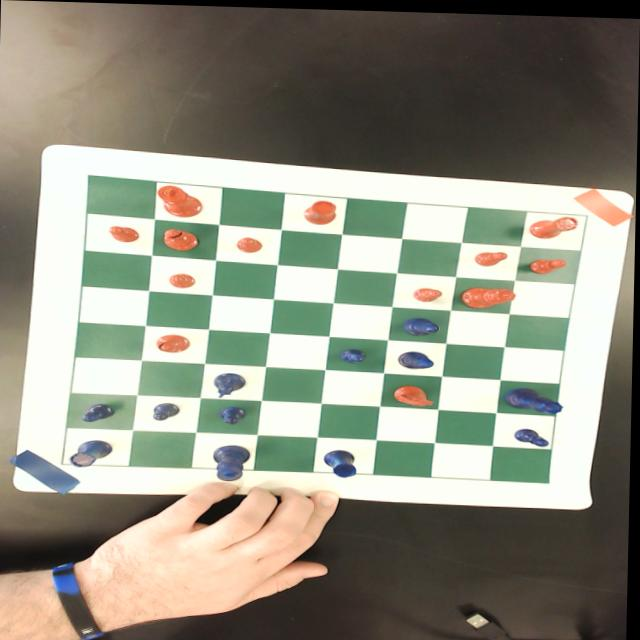B: (401, 314, 442, 333), (398, 348, 436, 367)
K: (213, 444, 252, 481)
N: (209, 370, 249, 398)
P: (515, 425, 552, 445), (83, 402, 115, 423), (153, 401, 183, 422), (219, 405, 248, 424), (340, 347, 368, 361)
Q: (505, 384, 566, 411)
R: (70, 439, 115, 468), (324, 447, 360, 476)
b: (163, 228, 200, 251), (157, 333, 191, 353)
cb: (63, 175, 588, 480)
k: (157, 184, 203, 216)
n: (393, 382, 437, 404)
p: (527, 255, 568, 272), (107, 224, 142, 243), (475, 248, 509, 264), (235, 235, 264, 252), (169, 271, 197, 288), (414, 285, 444, 300)
q: (461, 283, 518, 306)
r: (529, 211, 581, 237), (304, 198, 336, 223)
